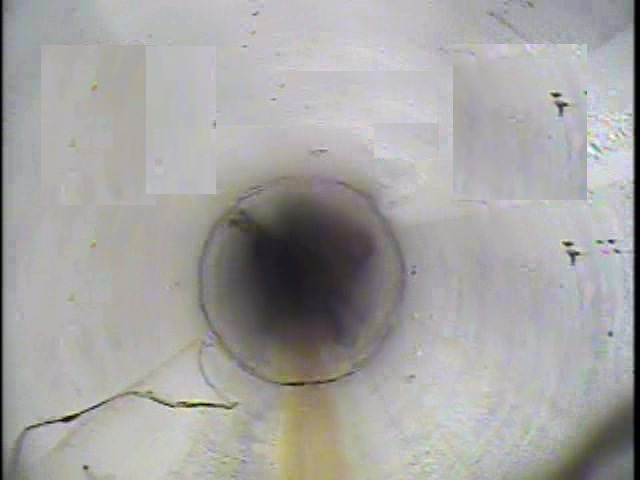circle1: (195, 173, 410, 387)
circle2: (280, 262, 311, 291)
